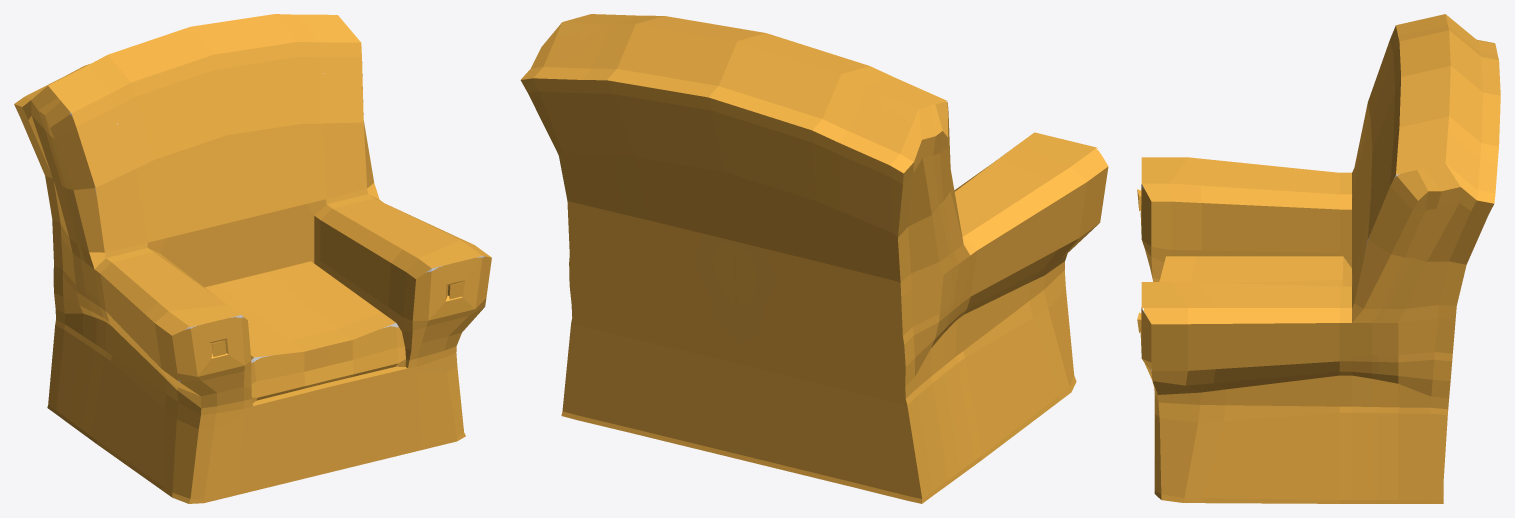
File: chair.glb
The picture shows the model from 3 angles, left to right: view 1: azimuth 30°, elevation 25°; view 2: azimuth 150°, elevation 25°; view 3: azimuth 270°, elevation 25°; orthographic projection. The views are drawn at different scales.
Parts seen in each view (by area): view 1: arm chair; view 2: arm chair; view 3: arm chair.
Part boxes in pixels (box(x1,y1,x2,y2)): arm chair: box(14, 14, 491, 503); arm chair: box(520, 14, 1108, 503); arm chair: box(1137, 14, 1500, 503).
Bounding box in the file's own units: 74.91 × 76.8 × 69.74.
1 material, 1 textured.
